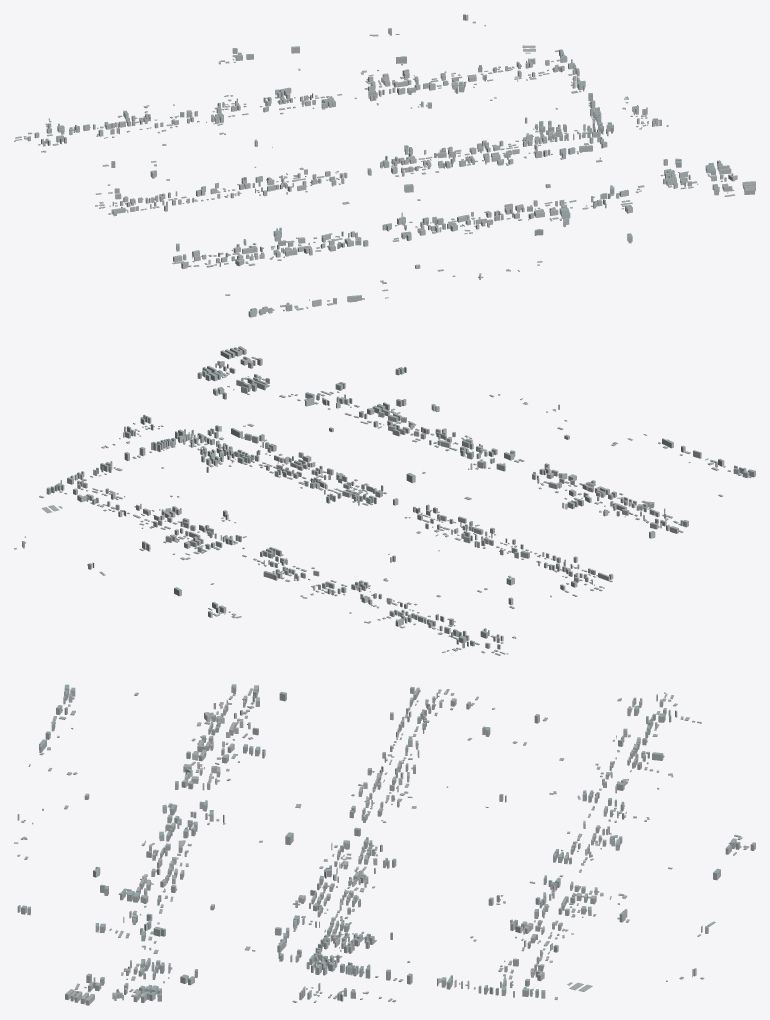
Rendered from far.glb.
3 views of the same model, one above another, from view 1: azimuth 30°, elevation 25°; view 2: azimuth 150°, elevation 25°; view 3: azimuth 270°, elevation 25° (orthographic). The views are drawn at different scales.
Bounding box in the file's own units: 2113 × 27.8 × 2092.
